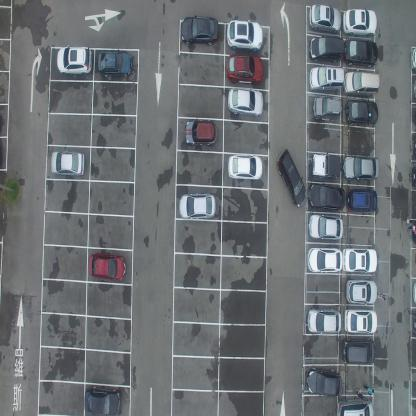car: (276, 148, 306, 207), (180, 13, 218, 46), (226, 19, 262, 52), (83, 386, 122, 416), (226, 52, 262, 84), (89, 251, 126, 282), (178, 190, 216, 220), (56, 45, 94, 75), (307, 182, 346, 211), (306, 366, 343, 396), (307, 245, 343, 274), (345, 37, 378, 68), (97, 50, 133, 78), (306, 306, 342, 334), (308, 37, 345, 64), (309, 3, 341, 34), (229, 87, 263, 116), (343, 8, 377, 37), (342, 336, 376, 365), (343, 154, 379, 181), (342, 247, 378, 274), (343, 71, 380, 97), (345, 98, 378, 127), (228, 153, 263, 180), (184, 118, 218, 145), (309, 213, 343, 240), (50, 150, 85, 176), (309, 66, 344, 92), (346, 277, 378, 305), (344, 308, 378, 334), (347, 186, 378, 214), (310, 151, 340, 179), (313, 94, 342, 121), (337, 396, 374, 415)
